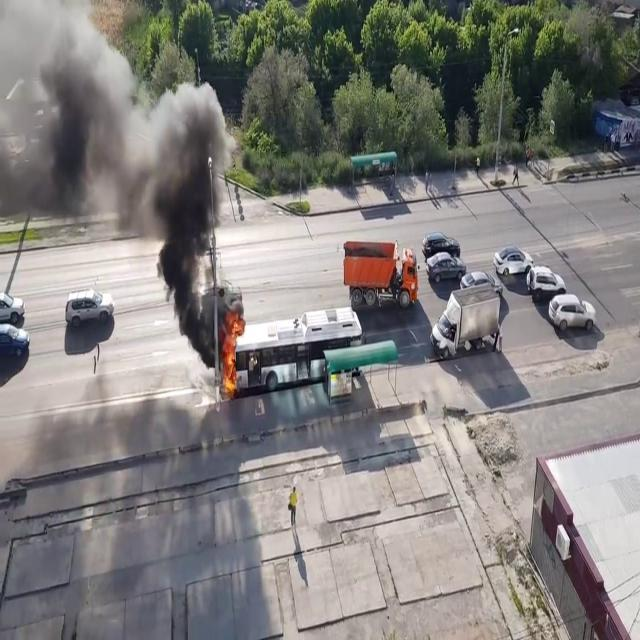Fire: (222, 312, 244, 397)
Smoke: (0, 2, 233, 323)
